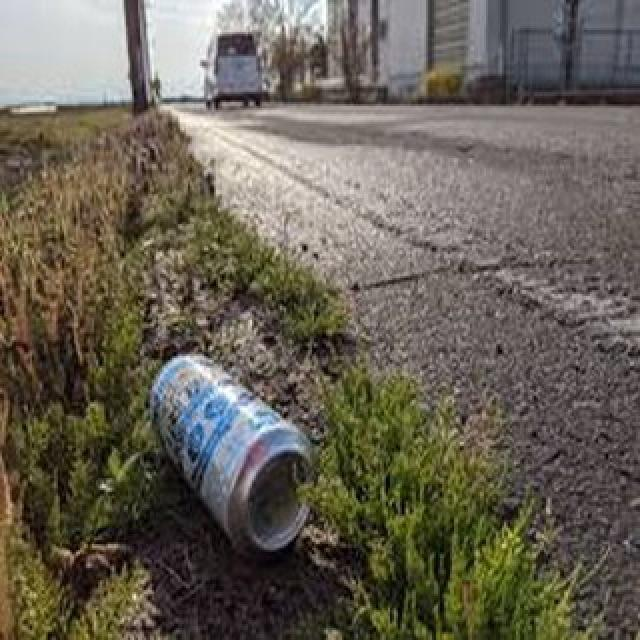recyclable: (147, 350, 320, 560)
